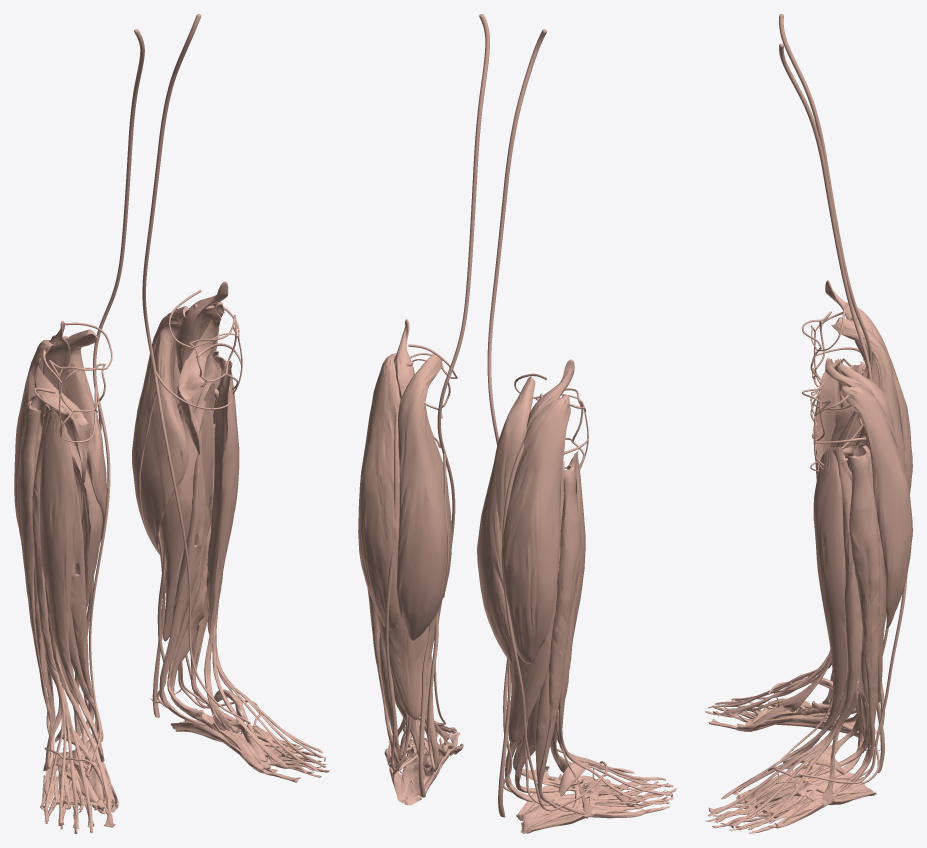
Rendered from male-unclassified-height-lower.glb.
3 renders of one model, left to right at view 1: azimuth 30°, elevation 25°; view 2: azimuth 150°, elevation 25°; view 3: azimuth 270°, elevation 25°, orthographic. The views are drawn at different scales.
Visible parts, largest first — view 1: FMA45958, FMA22544, FMA22545, FMA22548, FMA22559, FMA65017, FMA22552, FMA21380, FMA45957, FMA21379, FMA65019, FMA65016 (+17 smaller); view 2: FMA45960, FMA45958, FMA45961, FMA45957, FMA22552, FMA22559, FMA21380, FMA22558, FMA22548, FMA21379, FMA22561, FMA22560 (+13 smaller); view 3: FMA45961, FMA22545, FMA22553, FMA22549, FMA45957, FMA21380, FMA22544, FMA21379, FMA22559, FMA65017, FMA45960, FMA44335 (+20 smaller).
Part boxes in pixels (box(x1,y1,x2,y2)): FMA45958: box(132, 306, 189, 555); FMA22544: box(39, 409, 104, 762); FMA22545: box(204, 366, 239, 730); FMA22548: box(32, 404, 93, 828); FMA22559: box(159, 351, 221, 641); FMA65017: box(159, 427, 329, 777); FMA22552: box(17, 401, 88, 769); FMA21380: box(139, 14, 250, 723); FMA45957: box(62, 329, 106, 542); FMA21379: box(89, 29, 144, 761); FMA65019: box(167, 382, 243, 730); FMA65016: box(45, 470, 94, 833); FMA45960: box(501, 394, 570, 663); FMA45958: box(396, 353, 452, 640); FMA45961: box(358, 353, 400, 629); FMA45957: box(477, 376, 535, 664); FMA22552: box(537, 466, 585, 811); FMA22559: box(375, 602, 441, 719); FMA21380: box(434, 14, 489, 725); FMA22558: box(508, 461, 565, 743); FMA22548: box(558, 449, 673, 804); FMA21379: box(487, 29, 595, 761); FMA22561: box(394, 319, 434, 797); FMA22560: box(498, 359, 574, 817); FMA45961: box(842, 386, 912, 628); FMA22545: box(779, 447, 847, 769); FMA22553: box(794, 453, 879, 793); FMA22549: box(708, 444, 862, 830); FMA45957: box(831, 316, 905, 471); FMA21380: box(773, 43, 871, 767); FMA22544: box(779, 363, 840, 710); FMA21379: box(773, 14, 872, 693); FMA22559: box(848, 443, 886, 703); FMA65017: box(705, 704, 864, 833); FMA45960: box(857, 307, 912, 494); FMA44335: box(838, 417, 907, 783).
Bounding box in the file's own units: 0.3321 × 0.8687 × 0.2206.
